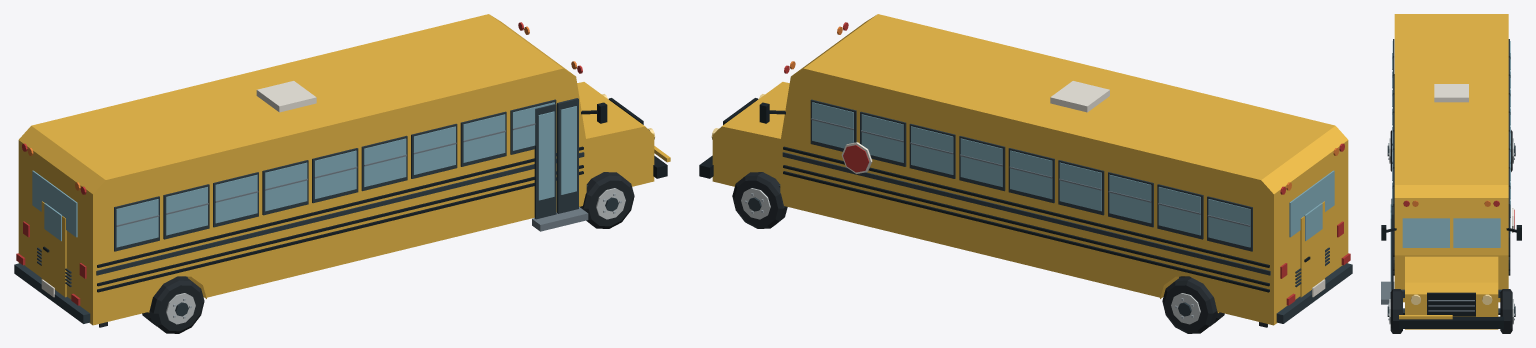
File: b15_conventional_school_bus.glb
The picture shows the model from 3 angles, left to right: view 1: azimuth 30°, elevation 25°; view 2: azimuth 150°, elevation 25°; view 3: azimuth 270°, elevation 25°; orthographic projection. The views are drawn at different scales.
Parts seen in each view (by area): view 1: b15_conventional_school_bus; view 2: b15_conventional_school_bus; view 3: b15_conventional_school_bus.
Boxes of the visible parts, x1,y1,x2,y2 form: b15_conventional_school_bus: (14, 14, 670, 333); b15_conventional_school_bus: (699, 14, 1352, 333); b15_conventional_school_bus: (1381, 14, 1521, 333).
Bounding box in the file's own units: 11.1 × 3.18 × 3.01.
